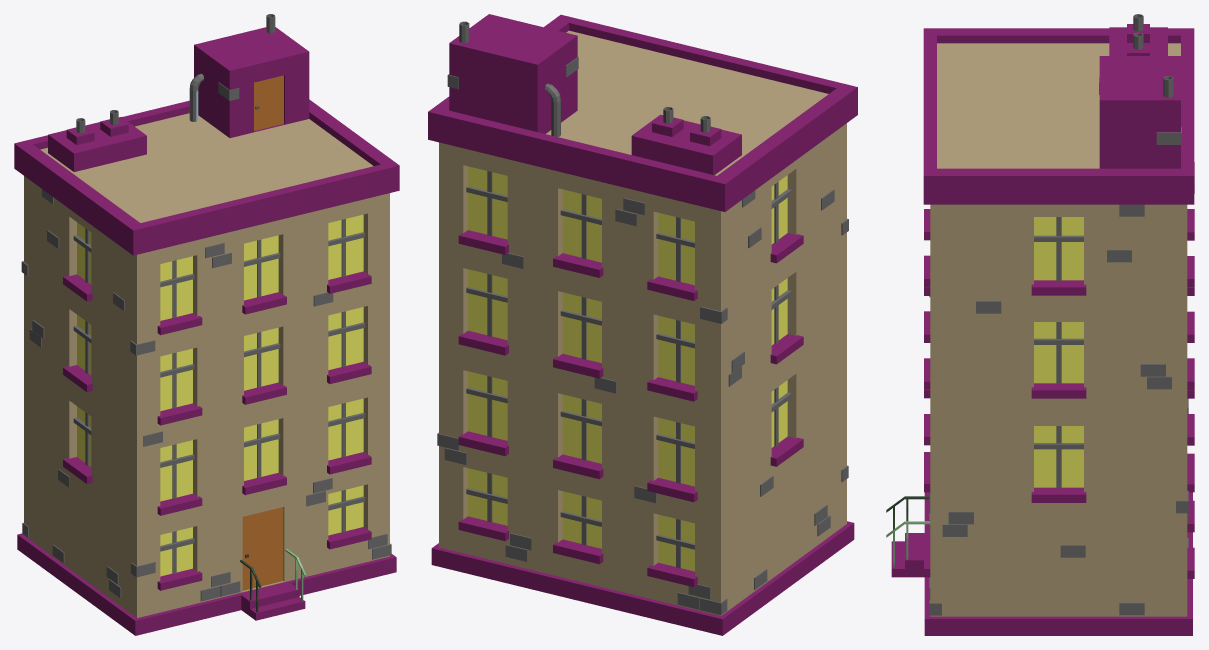
File: Target_Building_16.fbx
The picture shows the model from 3 angles, left to right: view 1: azimuth 30°, elevation 25°; view 2: azimuth 150°, elevation 25°; view 3: azimuth 270°, elevation 25°; orthographic projection. The views are drawn at different scales.
Visible parts, largest first — view 1: House_01; view 2: House_01; view 3: House_01.
Part boxes in pixels (bbox=[...]): House_01: bbox=[14, 14, 399, 635]; House_01: bbox=[428, 14, 857, 635]; House_01: bbox=[886, 14, 1194, 635].
Size of the model in its own units: 1428 by 2470 by 1259.
